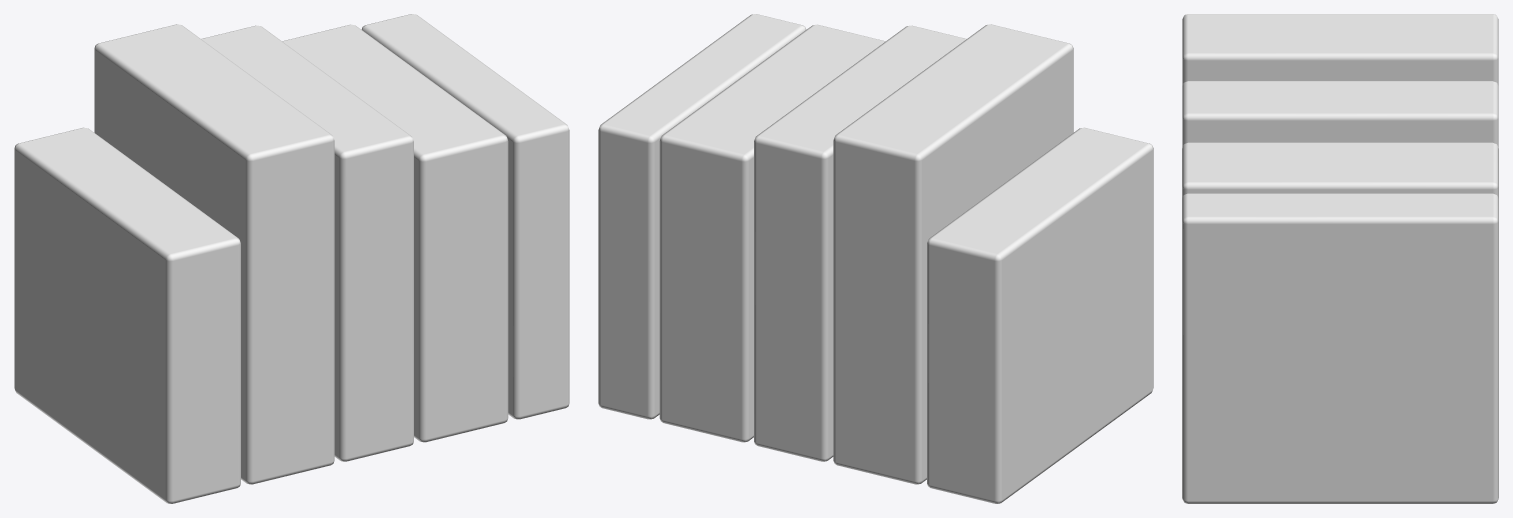
Rendered from books.glb.
3 renders of one model, left to right at view 1: azimuth 30°, elevation 25°; view 2: azimuth 150°, elevation 25°; view 3: azimuth 270°, elevation 25°, orthographic.
Parts seen in each view (by area): view 1: dyn_color_tint; view 2: dyn_color_tint; view 3: dyn_color_tint.
Boxes of the visible parts, left/top/right/bottom form: dyn_color_tint: left=14, top=14, right=569, bottom=503; dyn_color_tint: left=598, top=14, right=1153, bottom=503; dyn_color_tint: left=1182, top=14, right=1498, bottom=503.
Size of the model in its own units: 0.3167 by 0.2482 by 0.2128.
Materials: 1 (1 with a texture image).
